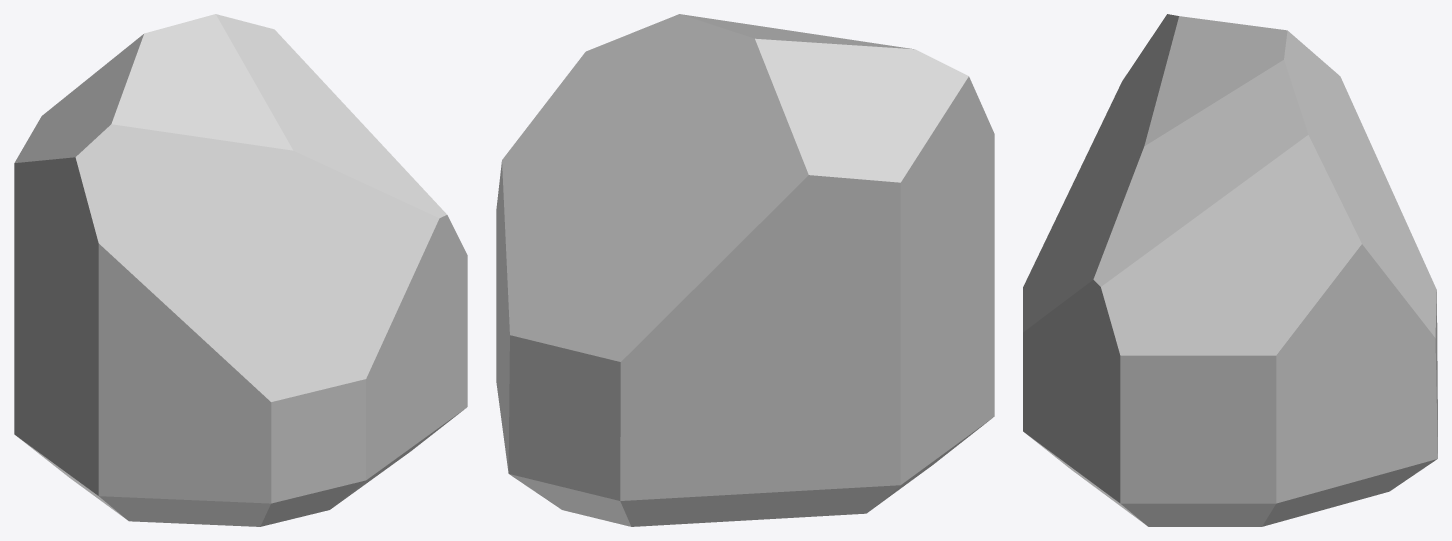
Rendered from rock_01.fbx.
3 views of the same model, side by side, from view 1: azimuth 30°, elevation 25°; view 2: azimuth 150°, elevation 25°; view 3: azimuth 270°, elevation 25° (orthographic). The views are drawn at different scales.
Visible parts, largest first — view 1: Rock_01; view 2: Rock_01; view 3: Rock_01.
Boxes of the visible parts, bbox=[...] form: Rock_01: bbox=[14, 14, 467, 526]; Rock_01: bbox=[496, 14, 994, 526]; Rock_01: bbox=[1023, 14, 1437, 526].
Size of the model in its own units: 200 by 217 by 200.
